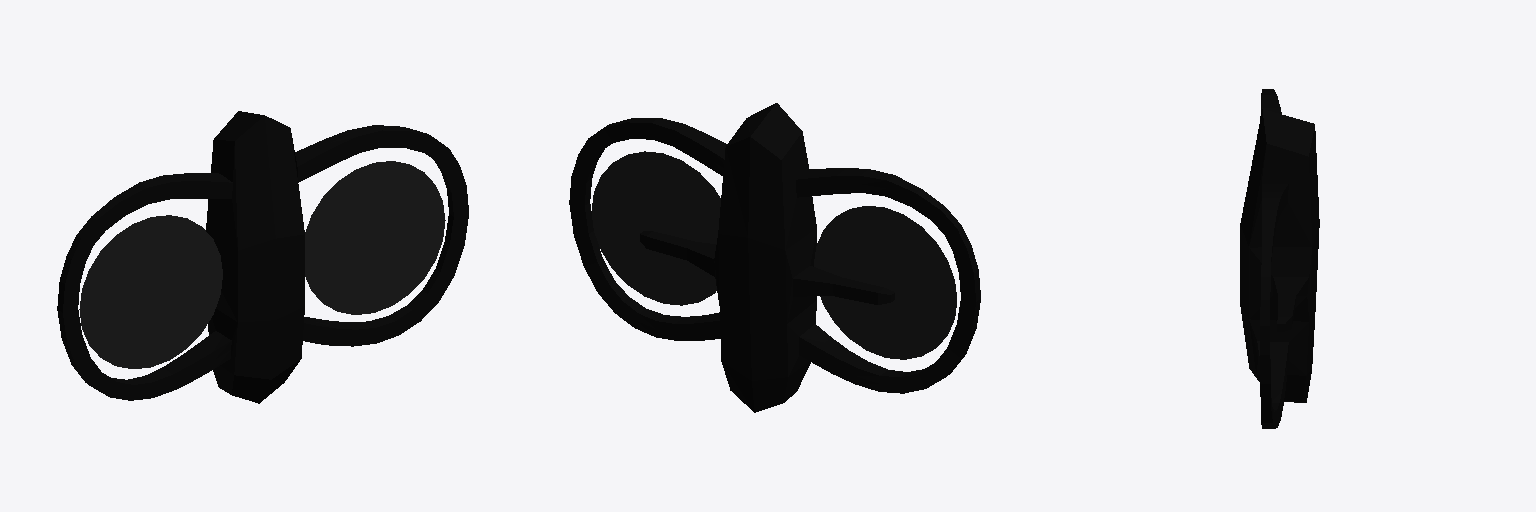
The model's file is drone1.obj.
3 views of the same model, side by side, from view 1: azimuth 30°, elevation 25°; view 2: azimuth 150°, elevation 25°; view 3: azimuth 270°, elevation 25° (orthographic).
Parts seen in each view (by area): view 1: DroneRotors, DroneRoot, DroneRims; view 2: DroneRotors, DroneRoot, DroneRims; view 3: DroneRoot, DroneRims.
Boxes of the visible parts, x1=… form: DroneRotors: x1=79, y1=161, x2=445, y2=368; DroneRoot: x1=206, y1=111, x2=304, y2=403; DroneRims: x1=57, y1=125, x2=468, y2=400; DroneRotors: x1=592, y1=151, x2=956, y2=359; DroneRoot: x1=640, y1=103, x2=894, y2=412; DroneRims: x1=569, y1=118, x2=980, y2=393; DroneRoot: x1=1240, y1=109, x2=1319, y2=402; DroneRims: x1=1257, y1=89, x2=1288, y2=428.
Bounding box in the file's own units: 3.24 × 2.24 × 0.5468.